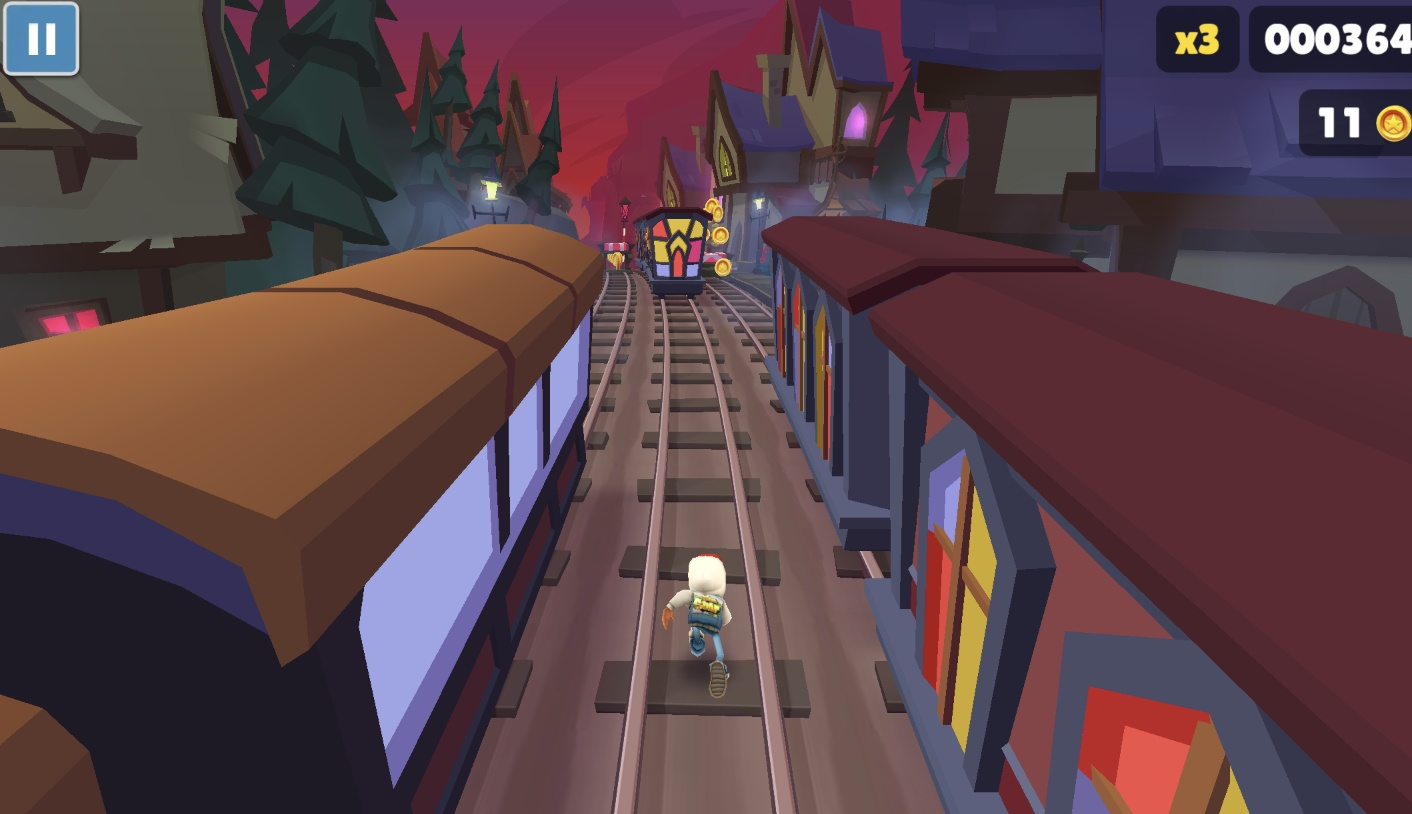ground_barrier: (602, 242, 632, 274), (708, 254, 736, 281)
train: (764, 216, 1412, 814), (0, 226, 598, 814), (634, 208, 715, 302)
